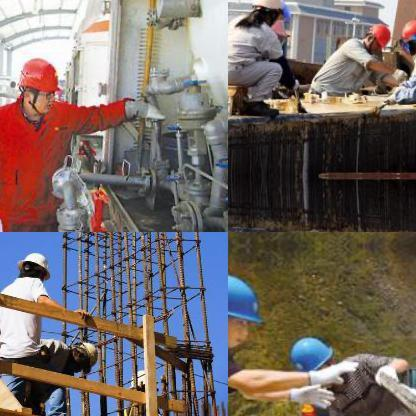Helmet: (10, 52, 64, 122), (228, 266, 264, 356), (284, 332, 334, 376), (9, 248, 50, 284), (248, 0, 283, 23), (366, 22, 392, 50), (400, 17, 415, 49)
